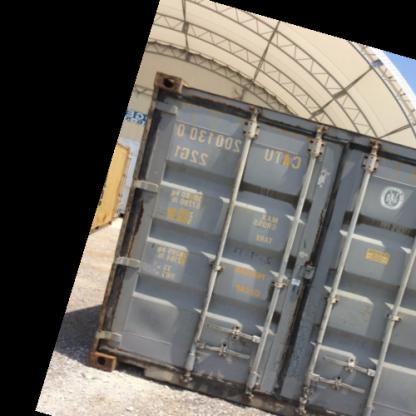Damage: (272, 286, 312, 390), (197, 90, 257, 130), (353, 212, 410, 251), (99, 268, 125, 340), (223, 240, 277, 273), (148, 74, 190, 111), (124, 192, 144, 241)
